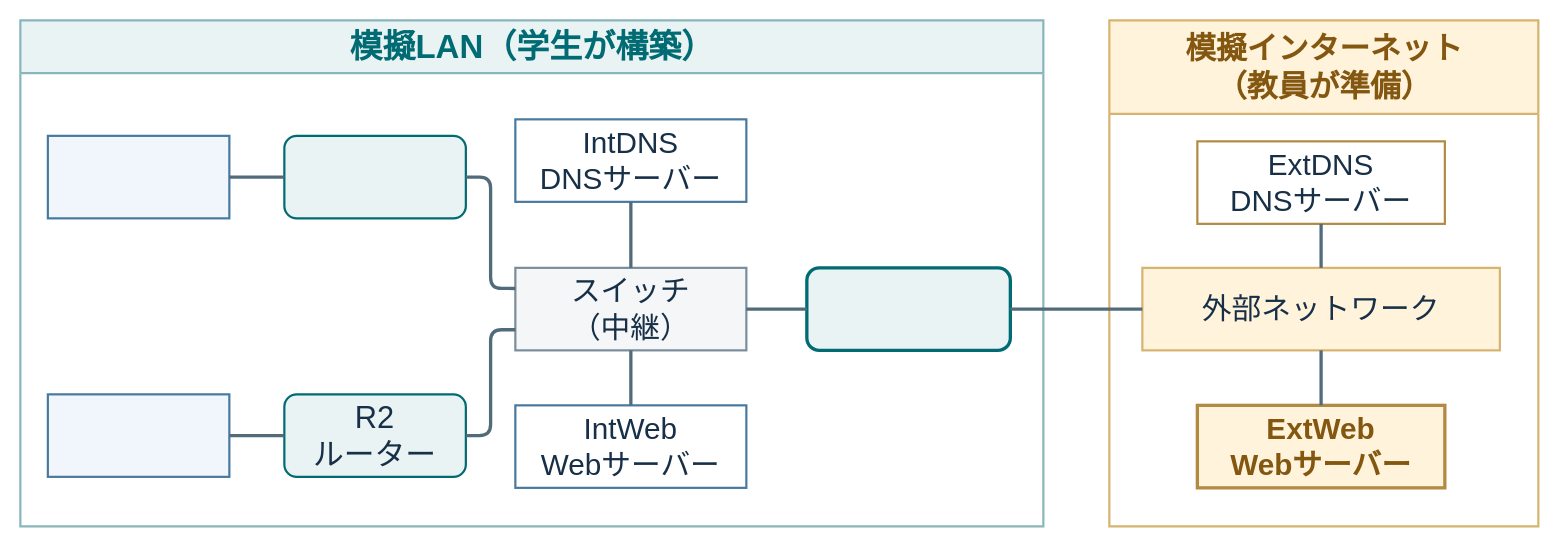
Image size: 1558x546. Some labels were removed from this diagram. Each missing label, with the centre of its shape:
ClientA PC: [138,176]
ClientB PC: [138,435]
GW 出口・NAPT: [908,308]
R1 ルーター: [374,176]
